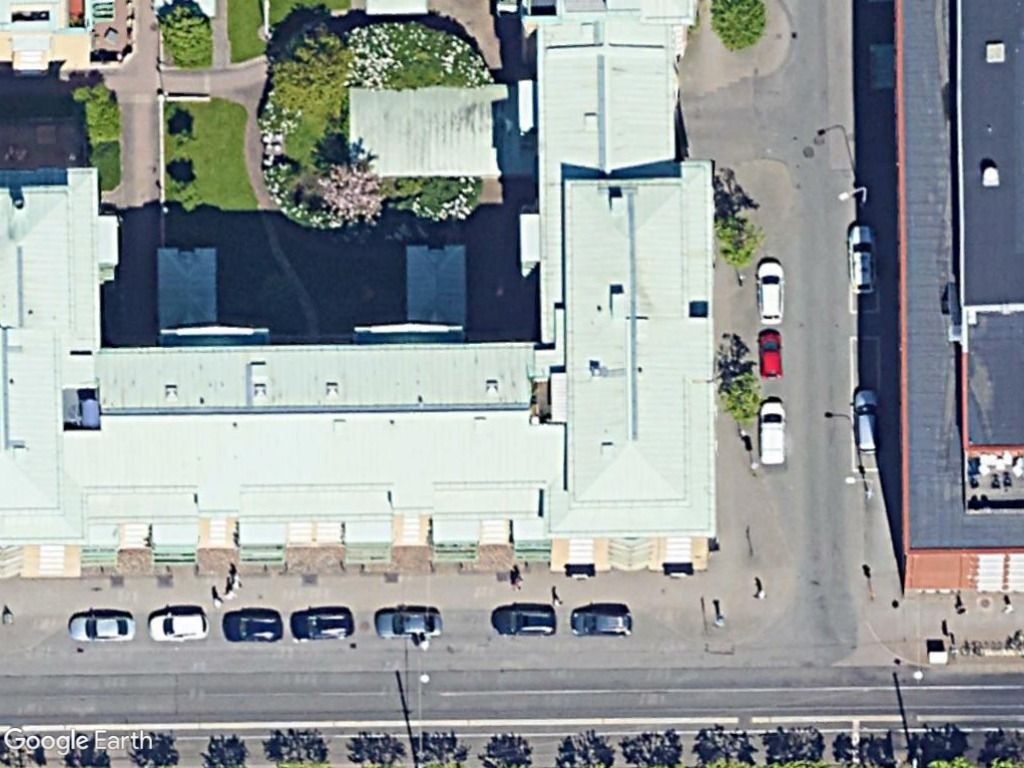car: (843, 216, 883, 300), (749, 253, 790, 328), (849, 384, 888, 462), (369, 604, 448, 642), (144, 603, 215, 645), (487, 604, 565, 640), (566, 606, 641, 642), (64, 611, 140, 646), (220, 608, 289, 646), (287, 607, 356, 643), (754, 325, 783, 381)
van: (752, 395, 789, 470)
